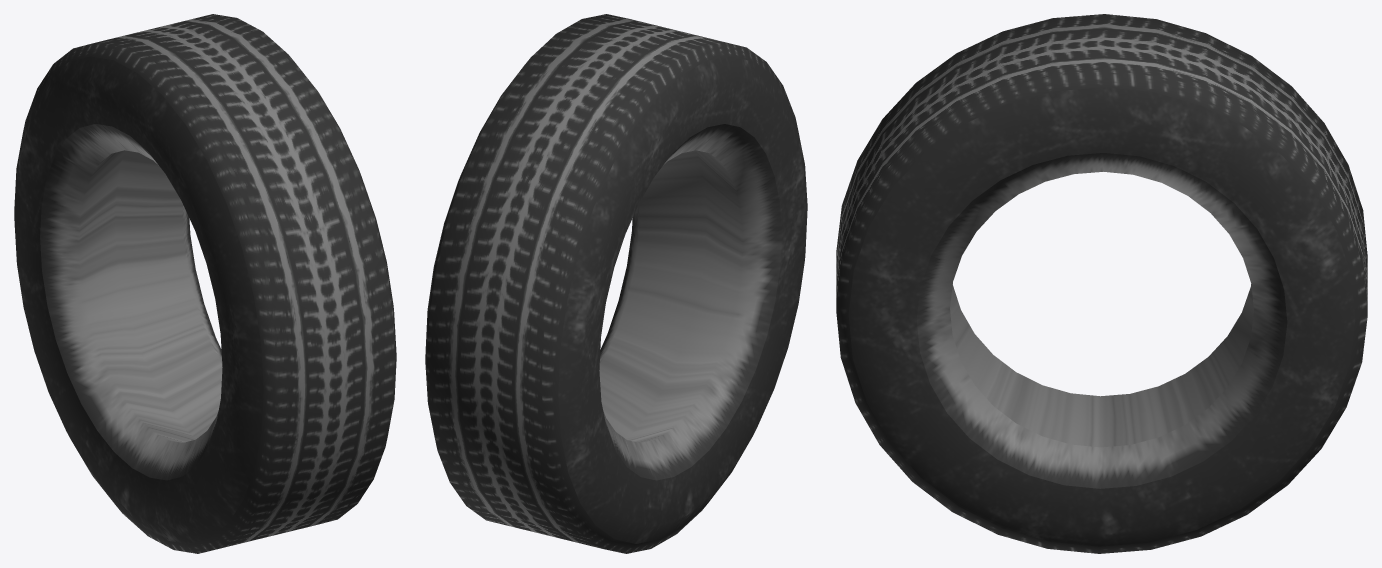
File: Tire.fbx
3 renders of one model, left to right at view 1: azimuth 30°, elevation 25°; view 2: azimuth 150°, elevation 25°; view 3: azimuth 270°, elevation 25°, orthographic.
Visible parts, largest first — view 1: Calota; view 2: Calota; view 3: Calota.
Boxes of the visible parts, left/top/right/bottom form: Calota: left=14, top=14, right=396, bottom=553; Calota: left=425, top=14, right=807, bottom=553; Calota: left=836, top=14, right=1367, bottom=553.
Size of the model in its own units: 22.81 by 67.19 by 67.19.
